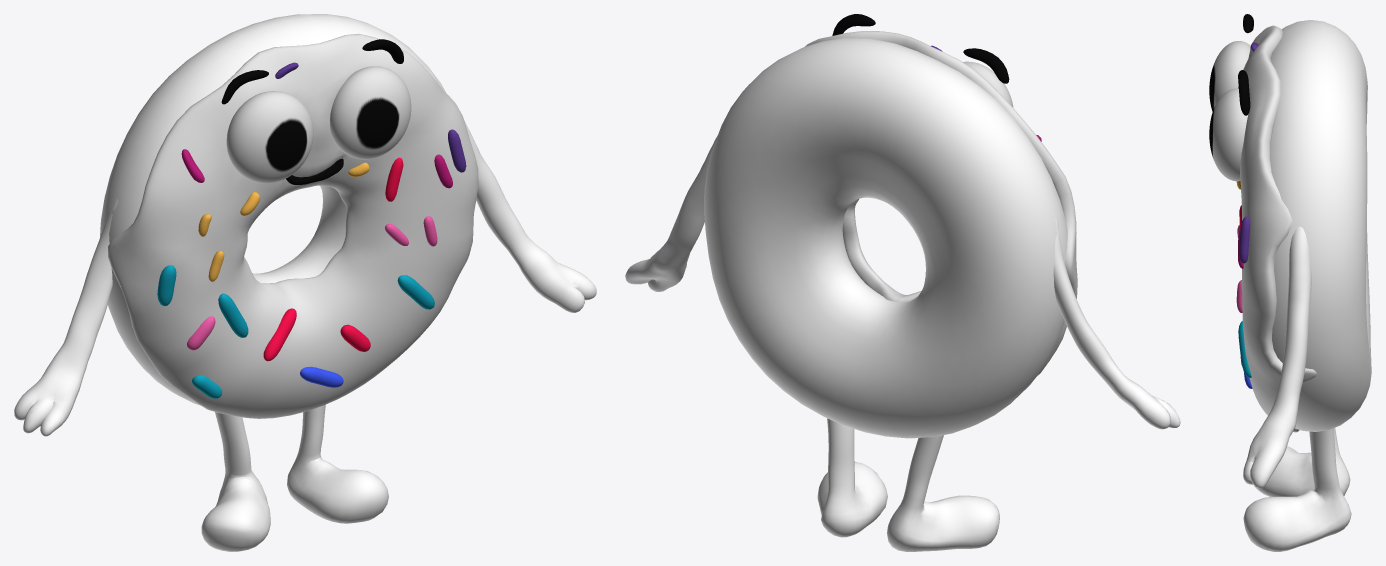
File: Donot.glb
The picture shows the model from 3 angles, left to right: view 1: azimuth 30°, elevation 25°; view 2: azimuth 150°, elevation 25°; view 3: azimuth 270°, elevation 25°; orthographic projection. The views are drawn at different scales.
Visible parts, largest first — view 1: Front, Body, Donut_Cartoon; view 2: Body, Front, Donut_Cartoon; view 3: Body, Front, Donut_Cartoon.
Part boxes in pixels (bbox=[...]): Front: bbox=[108, 34, 478, 418]; Body: bbox=[14, 14, 596, 551]; Donut_Cartoon: bbox=[157, 39, 466, 398]; Body: bbox=[625, 38, 1180, 551]; Front: bbox=[805, 31, 1077, 375]; Donut_Cartoon: bbox=[832, 14, 1041, 141]; Body: bbox=[1243, 20, 1371, 551]; Front: bbox=[1238, 25, 1317, 432]; Donut_Cartoon: bbox=[1209, 14, 1258, 388].
Bounding box in the file's own units: 1.04 × 0.8692 × 0.2655.
3 materials, 1 textured.
